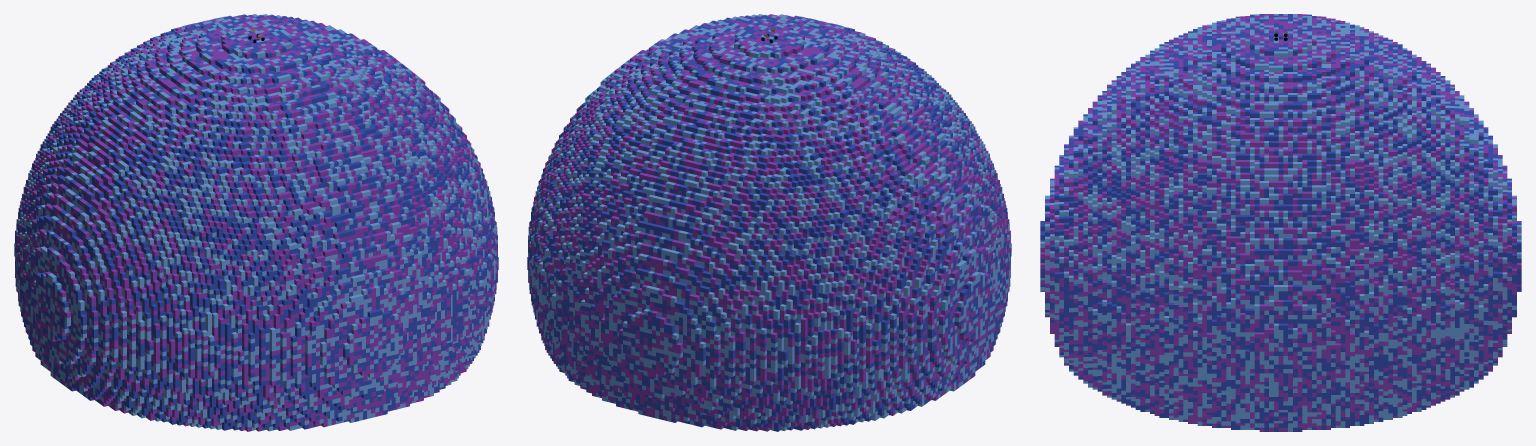
Rendered from minecraft.obj.
3 renders of one model, left to right at view 1: azimuth 30°, elevation 25°; view 2: azimuth 150°, elevation 25°; view 3: azimuth 270°, elevation 25°, orthographic.
Size of the model in its own units: 101 by 70.75 by 101.
